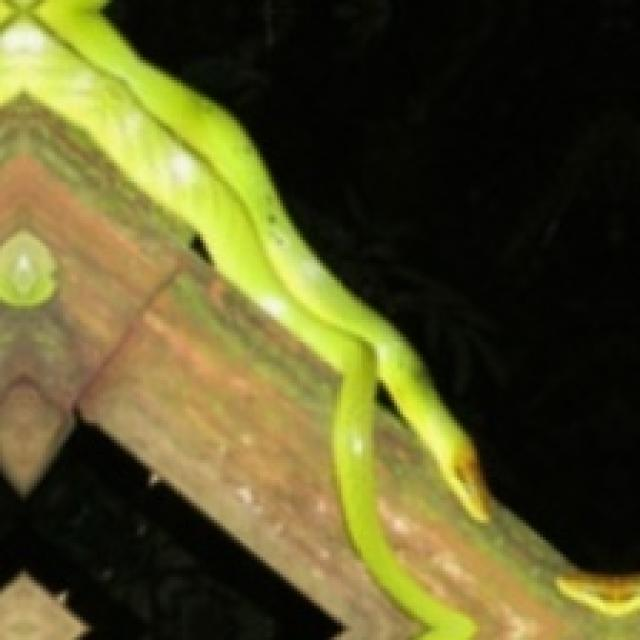red-tailed green ratsnake: (0, 0, 489, 637)
